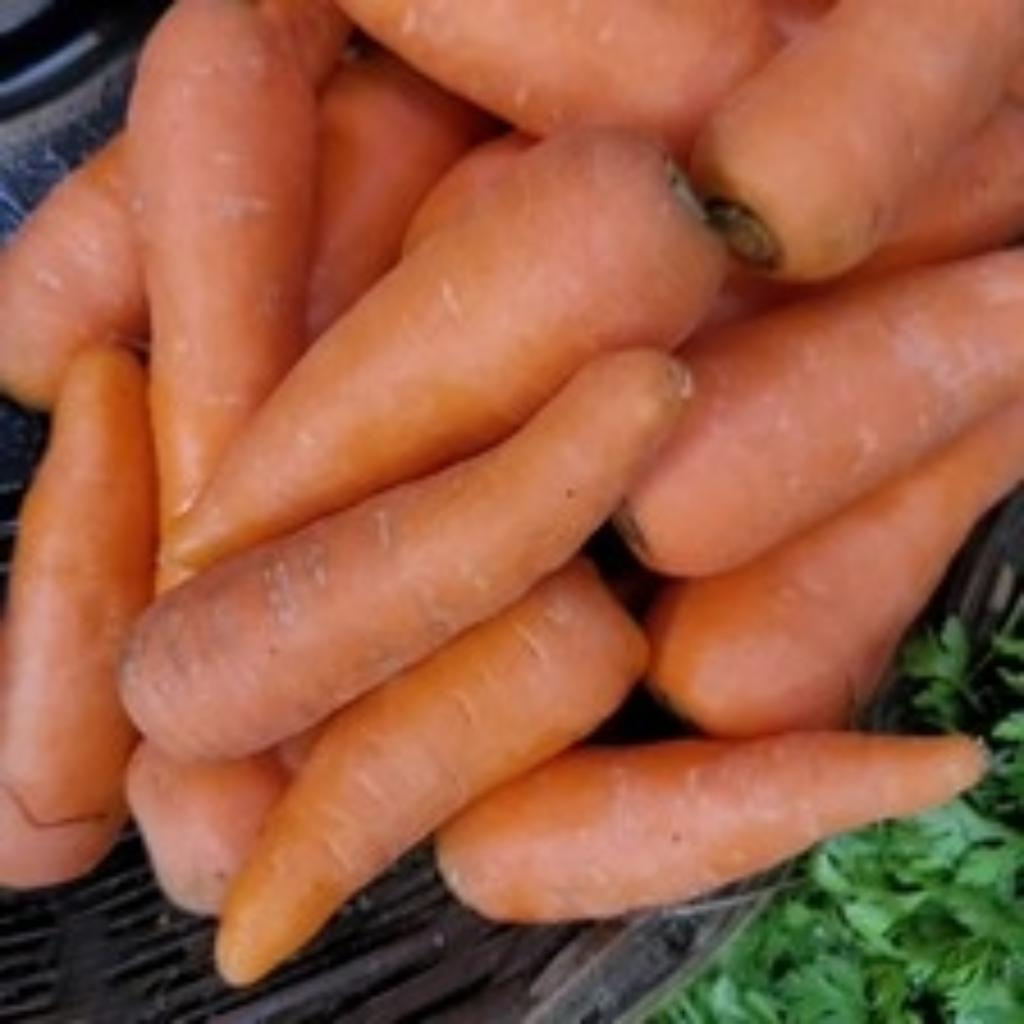carrot: (0, 0, 1015, 974)
